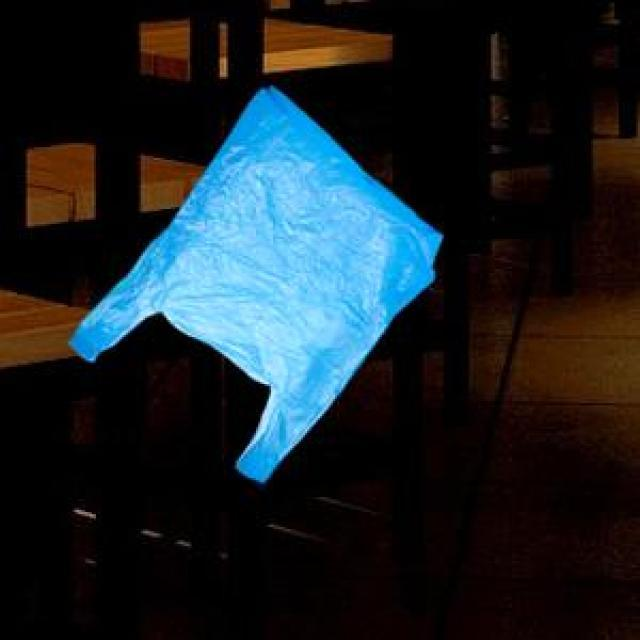Plastic_Bag: (64, 82, 438, 479)
